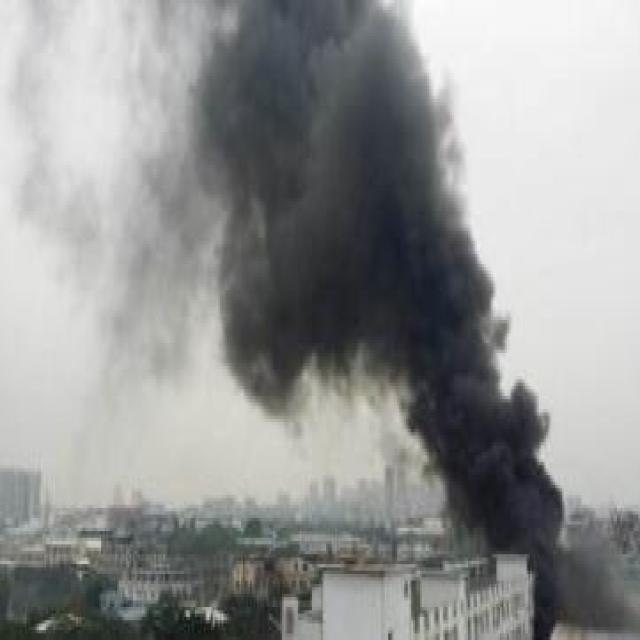Smoke: (110, 4, 640, 634)
